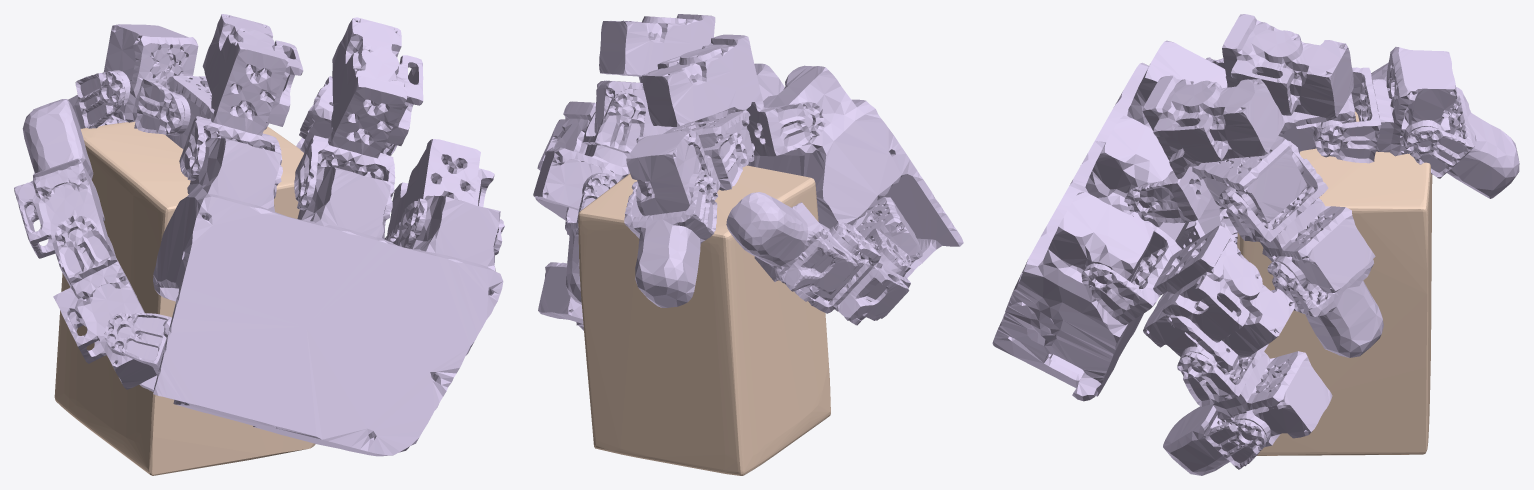
The model's file is ac2a1eeb73d423-closed.glb.
3 renders of one model, left to right at view 1: azimuth 30°, elevation 25°; view 2: azimuth 150°, elevation 25°; view 3: azimuth 270°, elevation 25°, orthographic. The views are drawn at different scales.
Visible parts, largest first — view 1: LEAP_hand, world; view 2: LEAP_hand, world; view 3: LEAP_hand, world.
Part boxes in pixels (left/top/right/bottom): LEAP_hand: left=14, top=14, right=504, bottom=456; world: left=54, top=121, right=315, bottom=475; LEAP_hand: left=533, top=14, right=963, bottom=330; world: left=578, top=165, right=830, bottom=475; LEAP_hand: left=992, top=14, right=1519, bottom=475; world: left=1237, top=111, right=1432, bottom=455.
Size of the model in its own units: 0.1811 by 0.1767 by 0.2071.
